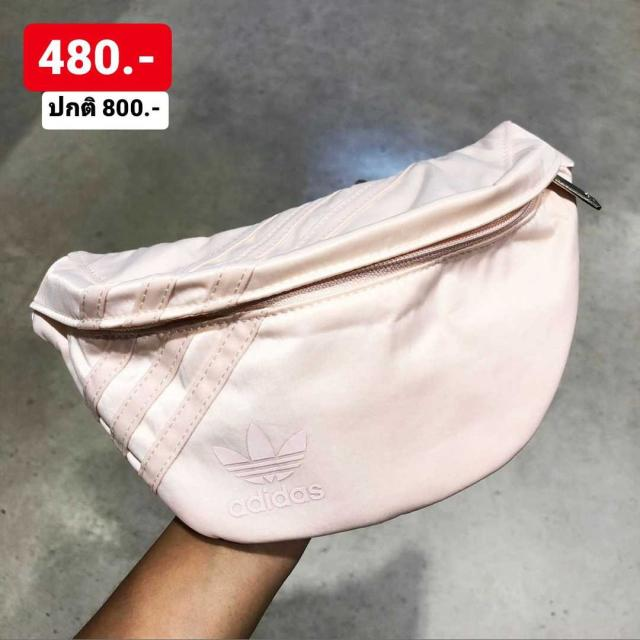Handbag: (32, 118, 582, 544)
